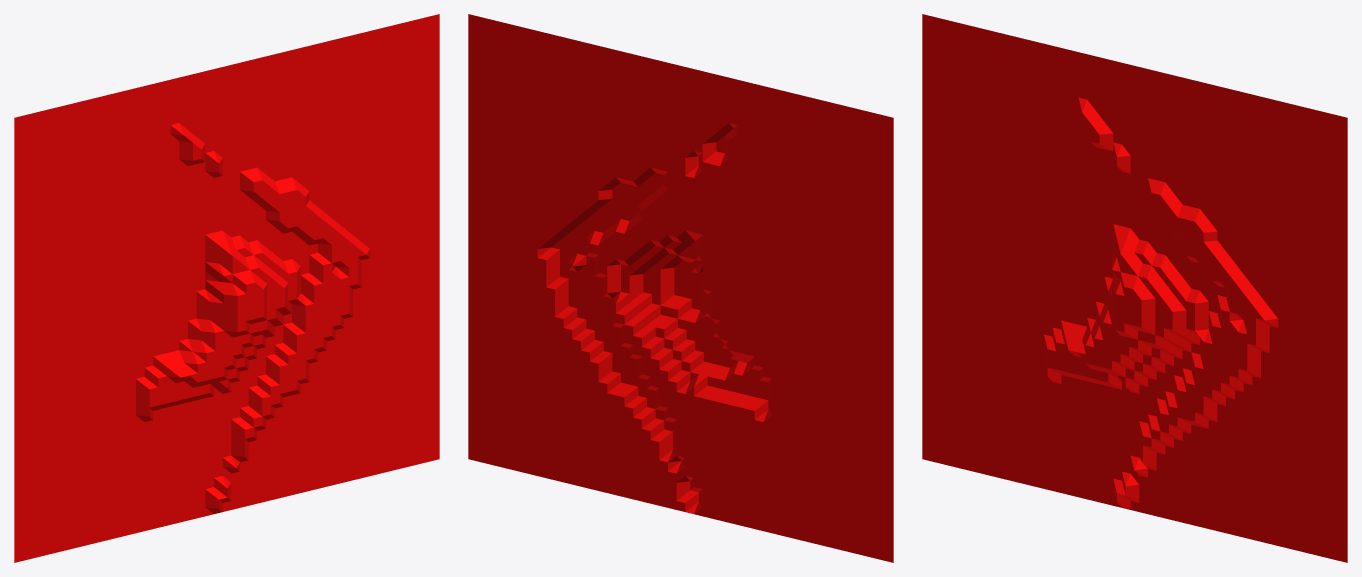
The picture shows the model from 3 angles, left to right: view 1: azimuth 30°, elevation 25°; view 2: azimuth 150°, elevation 25°; view 3: azimuth 330°, elevation 25°; orthographic projection.
Parts seen in each view (by area): view 1: Node; view 2: Node; view 3: Node.
Part boxes in pixels (left/top/right/bottom): Node: left=14, top=14, right=439, bottom=562; Node: left=468, top=14, right=893, bottom=562; Node: left=922, top=14, right=1347, bottom=562.
Bounding box in the file's own units: 49 × 49 × 3.
